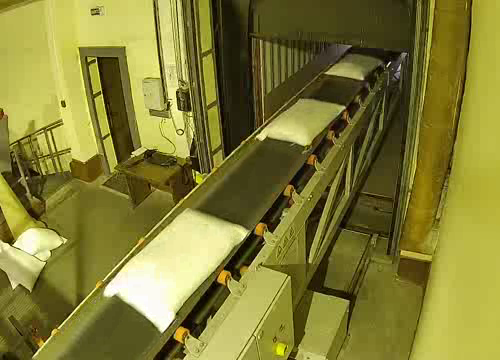bag: (93, 206, 258, 333), (257, 94, 351, 152), (325, 52, 384, 85)
